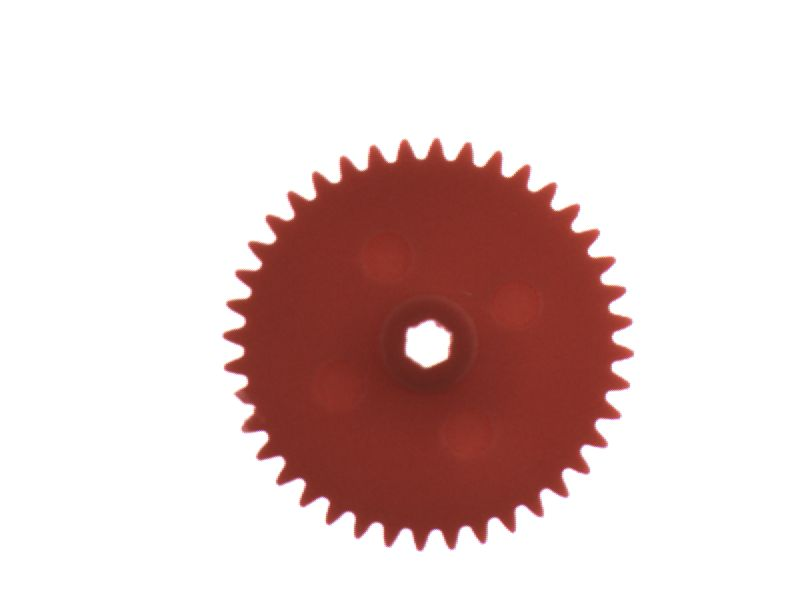defect_break: (208, 371, 273, 425)
